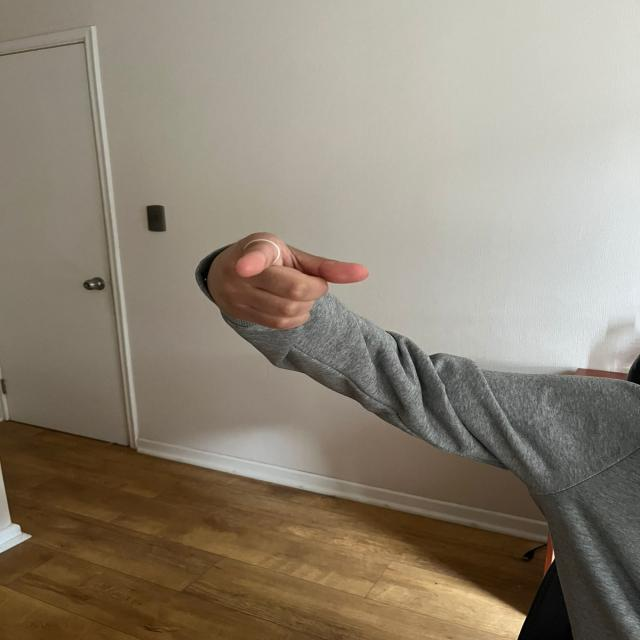X: (195, 230, 373, 342)
